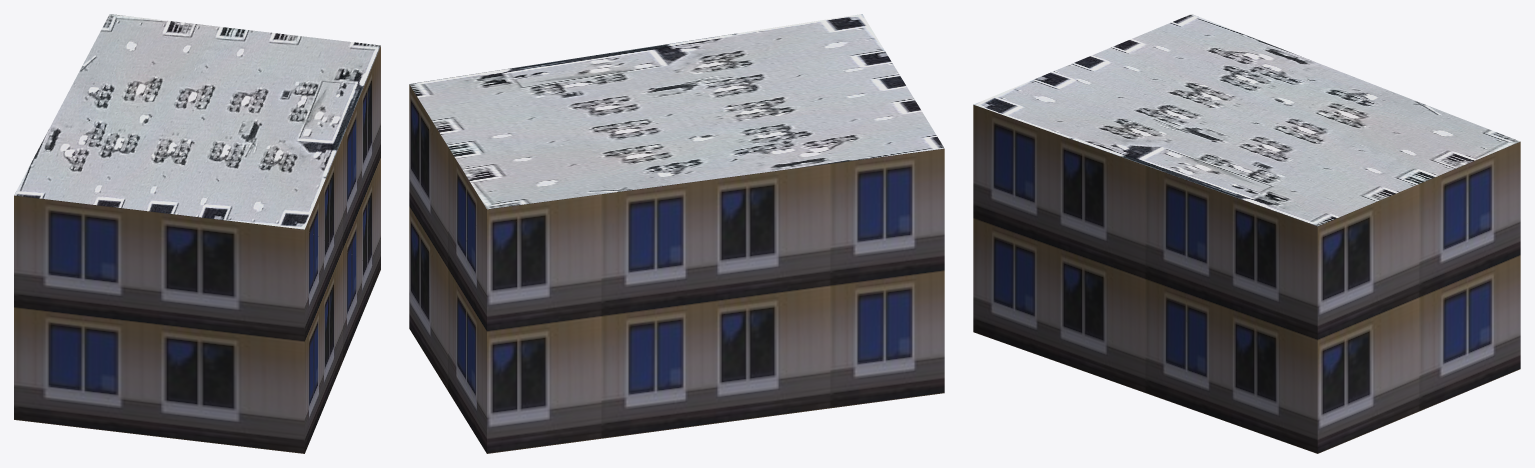
The model's file is ResTex__3260.fbx.
3 renders of one model, left to right at view 1: azimuth 30°, elevation 25°; view 2: azimuth 150°, elevation 25°; view 3: azimuth 270°, elevation 25°, orthographic. The views are drawn at different scales.
Parts seen in each view (by area): view 1: CityEngineMaterial_5_m, CityEngineMaterial_m; view 2: CityEngineMaterial_5_m, CityEngineMaterial_m; view 3: CityEngineMaterial_5_m, CityEngineMaterial_m.
Boxes of the visible parts, x1,y1,x2,y2 form: CityEngineMaterial_5_m: (14, 46, 380, 453); CityEngineMaterial_m: (14, 14, 380, 229); CityEngineMaterial_5_m: (409, 84, 944, 453); CityEngineMaterial_m: (409, 14, 944, 209); CityEngineMaterial_5_m: (973, 104, 1520, 453); CityEngineMaterial_m: (974, 14, 1519, 226).
Size of the model in its own units: 12.01 by 6 by 13.08.
2 materials, 2 textured.
